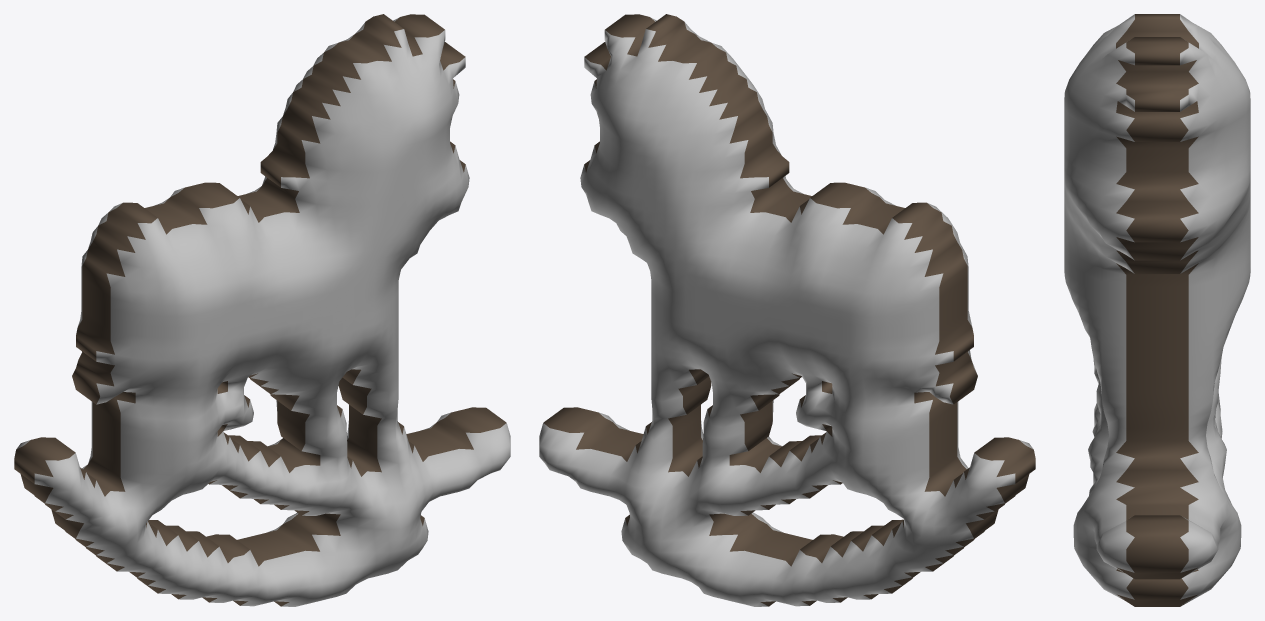
The model's file is rocking_horse.glb.
3 views of the same model, side by side, from view 1: azimuth 30°, elevation 25°; view 2: azimuth 150°, elevation 25°; view 3: azimuth 270°, elevation 25° (orthographic). The views are drawn at different scales.
Visible parts, largest first — view 1: rocking_horse; view 2: rocking_horse; view 3: rocking_horse.
Boxes of the visible parts, left/top/right/bottom form: rocking_horse: left=14, top=14, right=510, bottom=606; rocking_horse: left=539, top=14, right=1035, bottom=606; rocking_horse: left=1064, top=14, right=1250, bottom=606.
Size of the model in its own units: 0.6192 by 0.6865 by 0.1916.
